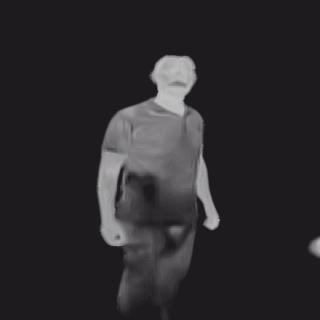Gun: (125, 172, 158, 206)
